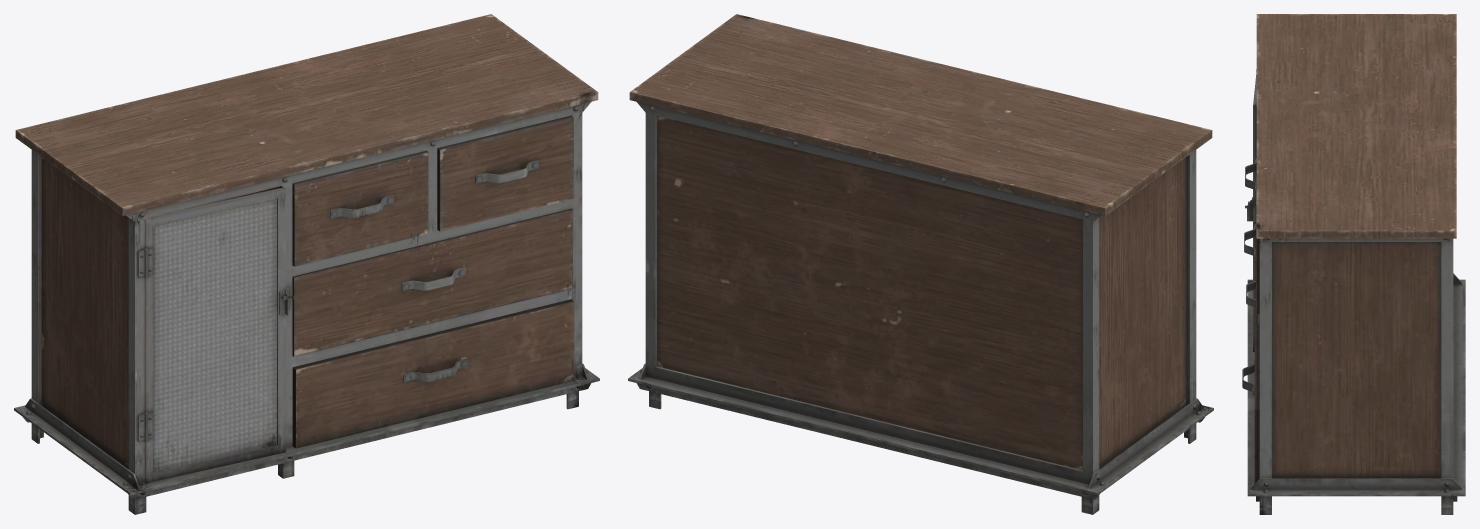
The model's file is WoodenTable_03.glb.
The picture shows the model from 3 angles, left to right: view 1: azimuth 30°, elevation 25°; view 2: azimuth 150°, elevation 25°; view 3: azimuth 270°, elevation 25°; orthographic projection. The views are drawn at different scales.
Visible parts, largest first — view 1: WoodenTable_03_drawer02; view 2: WoodenTable_03_drawer02; view 3: WoodenTable_03_drawer02.
Part boxes in pixels (bbox=[...]): WoodenTable_03_drawer02: bbox=[14, 14, 599, 514]; WoodenTable_03_drawer02: bbox=[628, 14, 1213, 514]; WoodenTable_03_drawer02: bbox=[1242, 14, 1465, 514].
Size of the model in its own units: 1.33 by 0.83 by 0.5752.
Materials: 1 (1 with a texture image).
